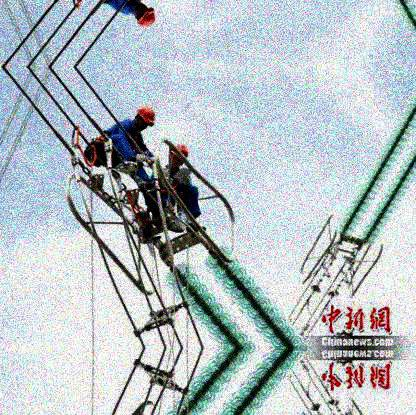helmet: (132, 106, 157, 131), (133, 1, 157, 27), (166, 143, 189, 168)
